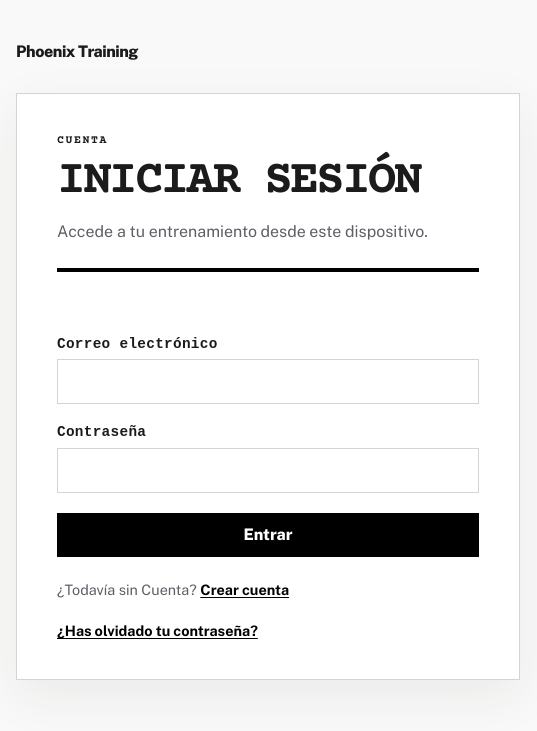
Test: pantalla de entrada › muestra errores junto a los campos sin enviar la petición
Type "no-es-un-correo" into the field labelled "Correo electrónico".
click(268, 382); type("no-es-un-correo")  # box [57,360,479,404]
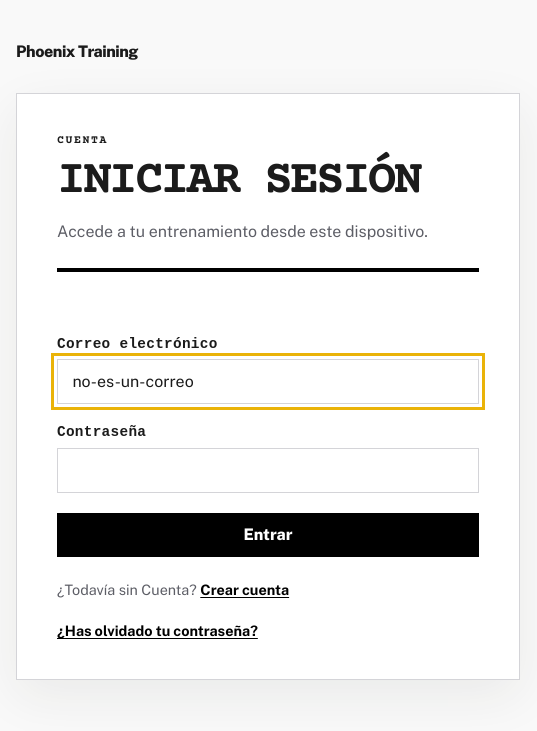
Click the button "Entrar".
click(268, 535)  # box [57,513,479,557]
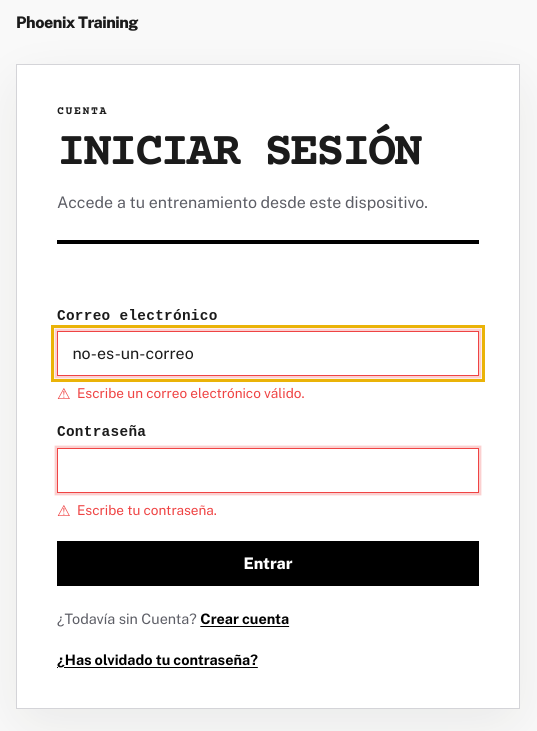
Expected: the text "Escribe un correo electrónico válido." is shown, [77,385,304,401]
Expected: the text "Escribe tu contraseña." is shown, [77,502,217,518]
